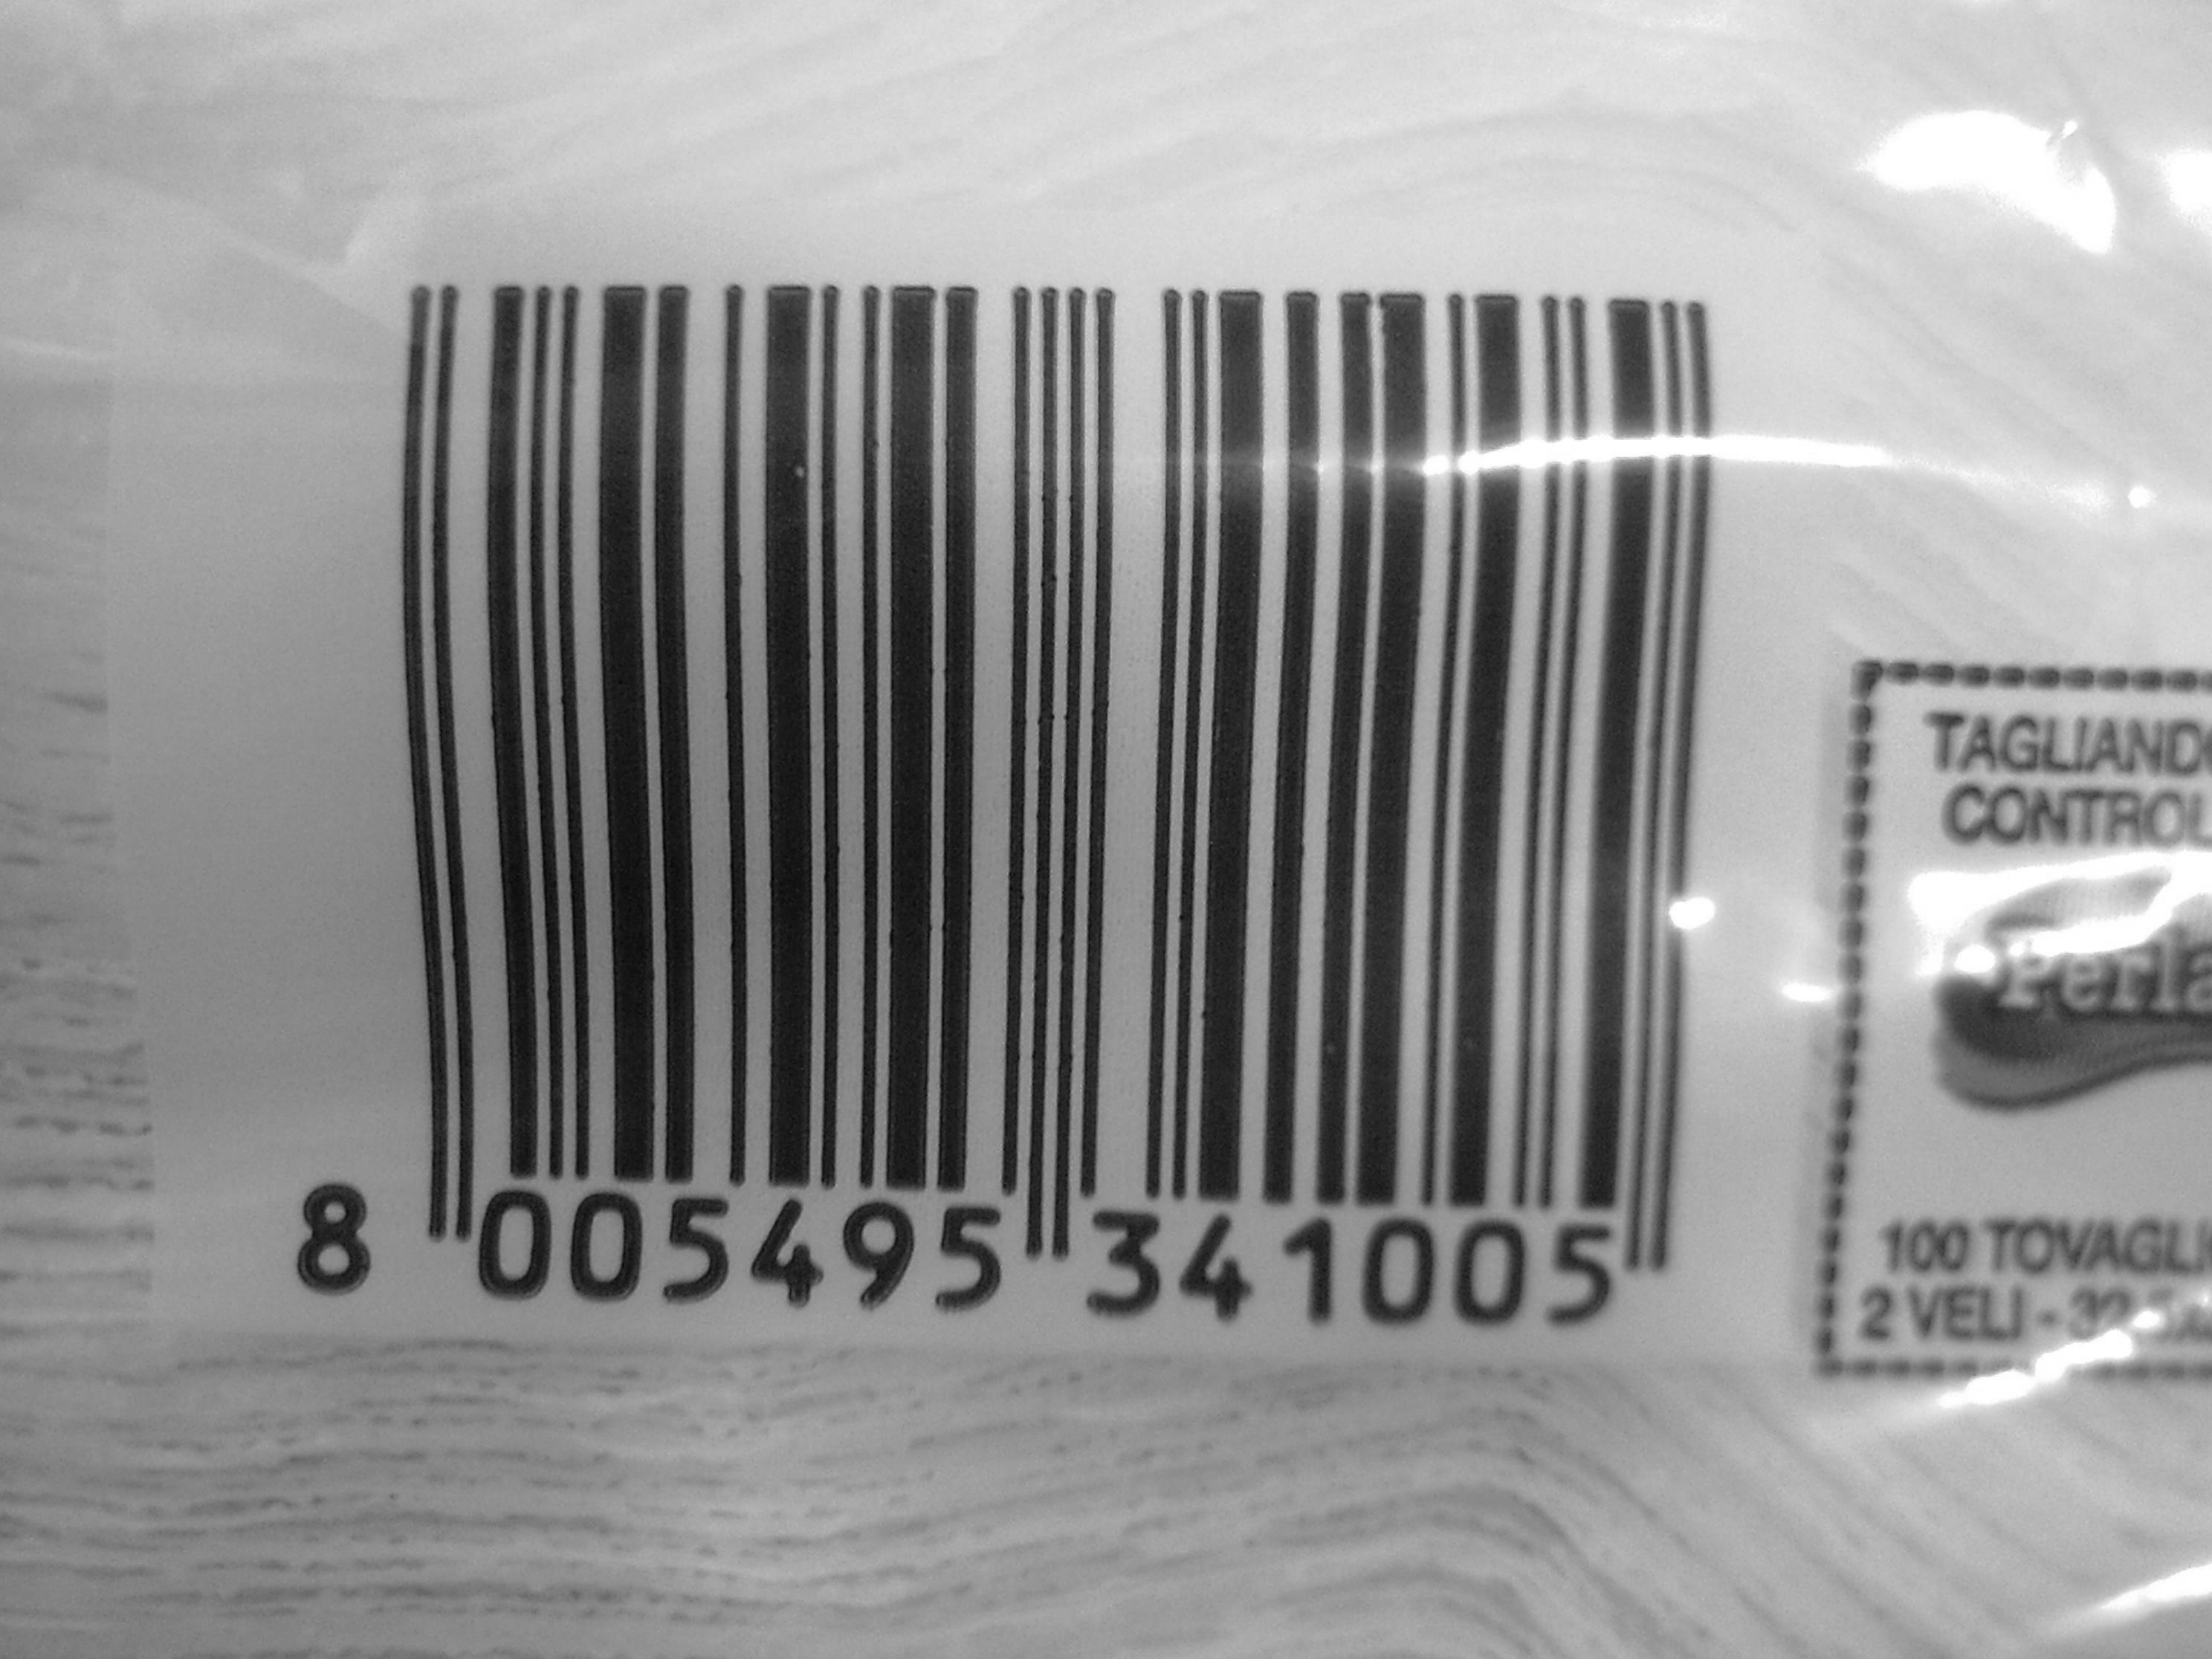Barcode: (303, 305, 1747, 1306)
